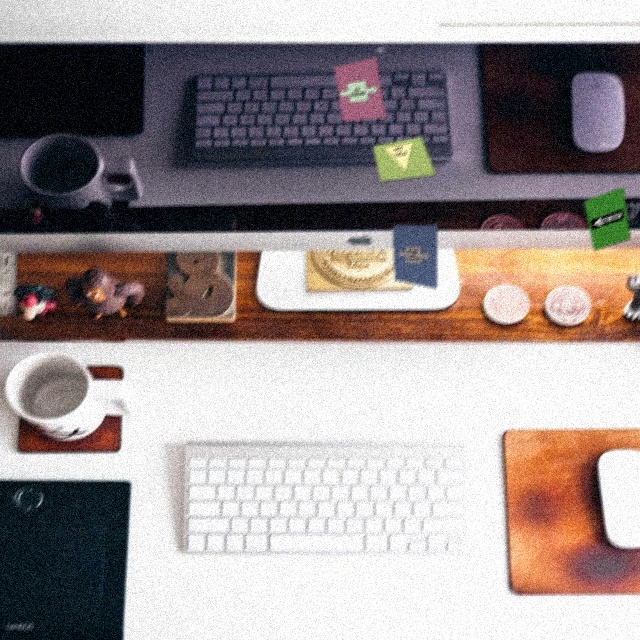DO_NOT_GO_AROUND: (397, 244, 430, 264)
GO_AROUND: (336, 76, 380, 105)
NOT_YIELD: (383, 140, 422, 174)
ONE_WAY_ left: (589, 207, 624, 228)
